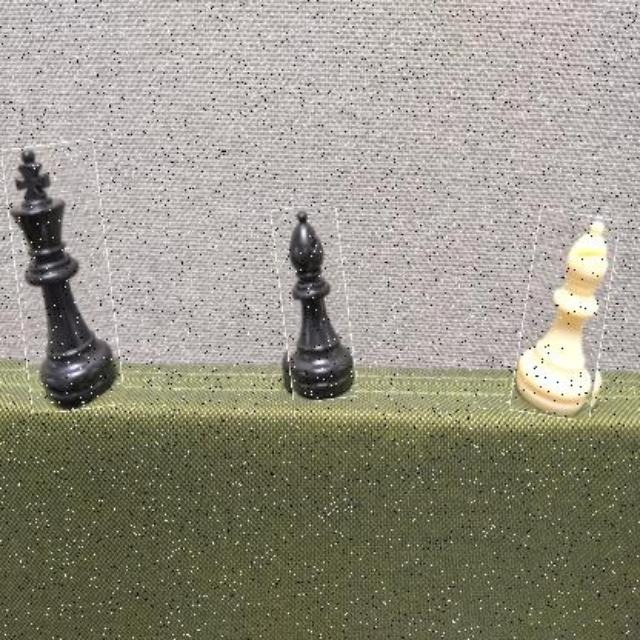black-bishop: (277, 205, 353, 401)
black-king: (9, 141, 116, 411)
white-bishop: (517, 211, 612, 418)
